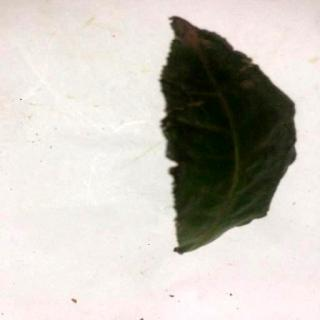Red Leaf Spot: (162, 16, 298, 257)
